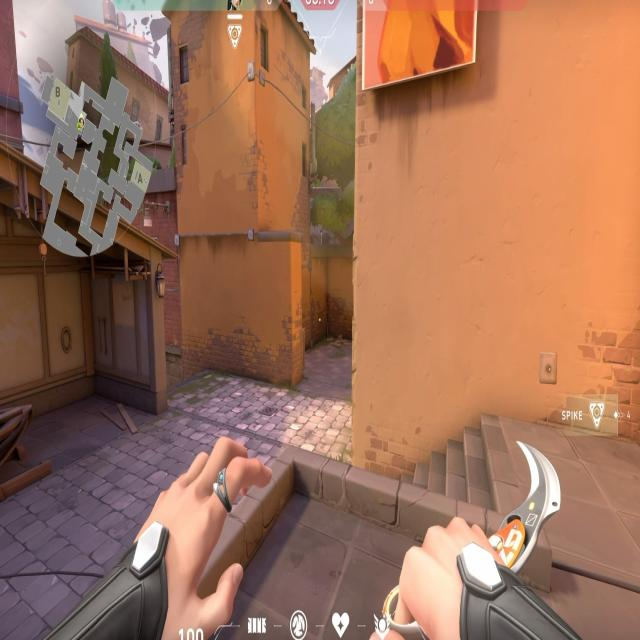B_Garage_Right: (2, 258, 166, 424)
